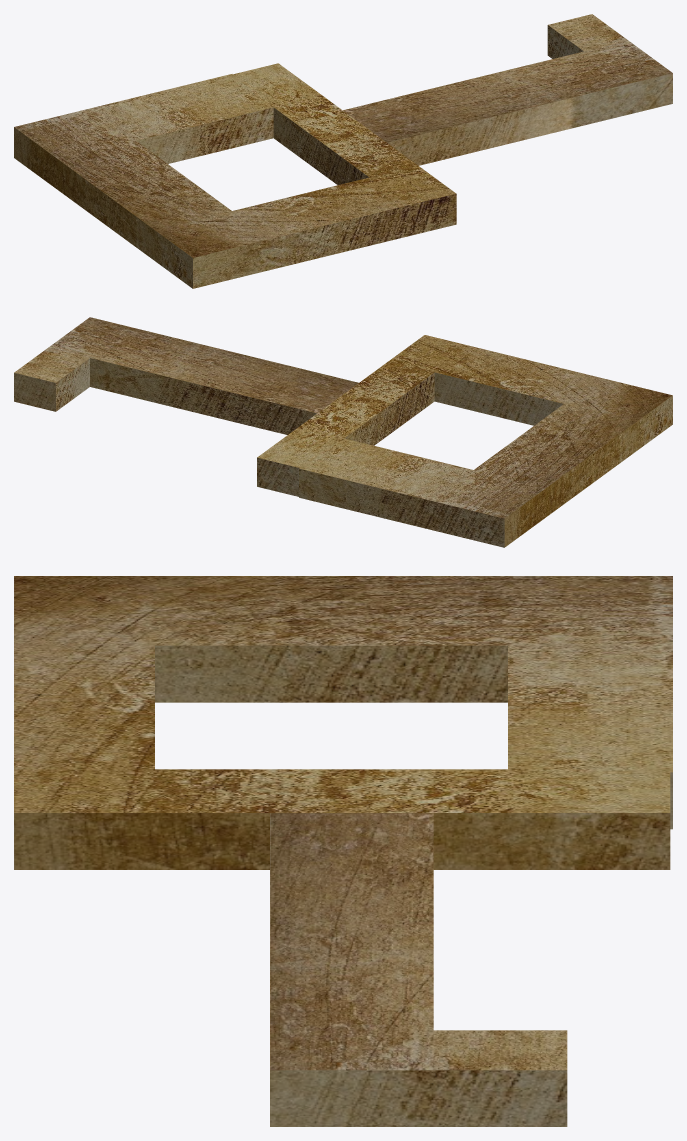
Rendered from key.fbx.
The picture shows the model from 3 angles, top to bottom: view 1: azimuth 30°, elevation 25°; view 2: azimuth 150°, elevation 25°; view 3: azimuth 270°, elevation 25°; orthographic projection. The views are drawn at different scales.
Visible parts, largest first — view 1: Cube.001; view 2: Cube.001; view 3: Cube.001.
Part boxes in pixels (x1,y1,x2,y2): Cube.001: (14,14,672,288); Cube.001: (14,317,672,547); Cube.001: (14,576,672,1126).
Size of the model in its own units: 104 by 5.61 by 58.76.
